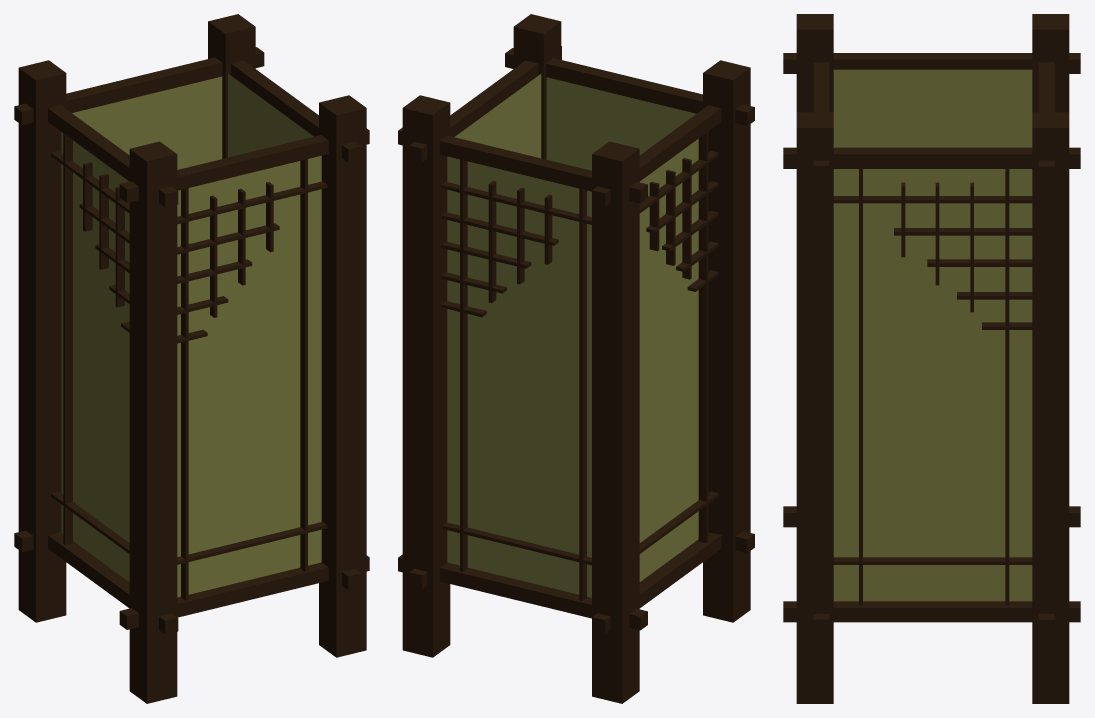
Rendered from teacup.fbx.
The picture shows the model from 3 angles, left to right: view 1: azimuth 30°, elevation 25°; view 2: azimuth 150°, elevation 25°; view 3: azimuth 270°, elevation 25°; orthographic projection. The views are drawn at different scales.
Visible parts, largest first — view 1: Plane007, Box006, Box007, Box004, Plane006, Plane005, Box082, Box008, Plane004, Box009, Box013, Box071 (+15 smaller); view 2: Plane005, Box004, Box005, Box006, Plane006, Plane007, Box072, Box009, Plane004, Box008, Box012, Box060 (+17 smaller); view 3: Plane004, Box007, Box005, Plane006, Box011, Box015, Box010, Box006, Box004, Box016, Box026, Box025 (+9 smaller).
Part boxes in pixels (x1,y1,x2,y2): Plane007: (177, 155, 321, 597); Box006: (129, 141, 177, 703); Box007: (319, 95, 366, 657); Box004: (18, 60, 66, 622); Plane006: (61, 132, 129, 581); Plane005: (72, 76, 222, 169); Box082: (63, 133, 72, 544); Box008: (14, 47, 264, 125); Plane004: (228, 74, 313, 157); Box009: (119, 128, 369, 202); Box013: (119, 555, 369, 629); Box071: (300, 159, 307, 571); Plane005: (447, 156, 591, 597); Box004: (592, 141, 639, 703); Box005: (402, 95, 450, 657); Box006: (703, 60, 750, 622); Plane006: (639, 139, 698, 581); Plane007: (546, 77, 696, 170); Box072: (698, 132, 708, 543); Box009: (505, 48, 754, 125); Plane004: (454, 74, 541, 158); Box008: (398, 127, 647, 203); Box012: (398, 554, 647, 630); Box060: (579, 188, 586, 600); Plane004: (833, 169, 1032, 601); Box007: (796, 112, 833, 703); Box005: (1032, 112, 1069, 703); Plane006: (833, 69, 1032, 147); Box011: (783, 147, 1080, 168); Box015: (783, 601, 1080, 622); Box010: (783, 53, 1080, 73); Box006: (796, 14, 833, 112); Box004: (1032, 14, 1069, 112); Box016: (1005, 169, 1009, 605); Box026: (859, 169, 862, 605); Box025: (833, 557, 1032, 564).
Bounding box in the file's own units: 28.18 × 60 × 28.08.
